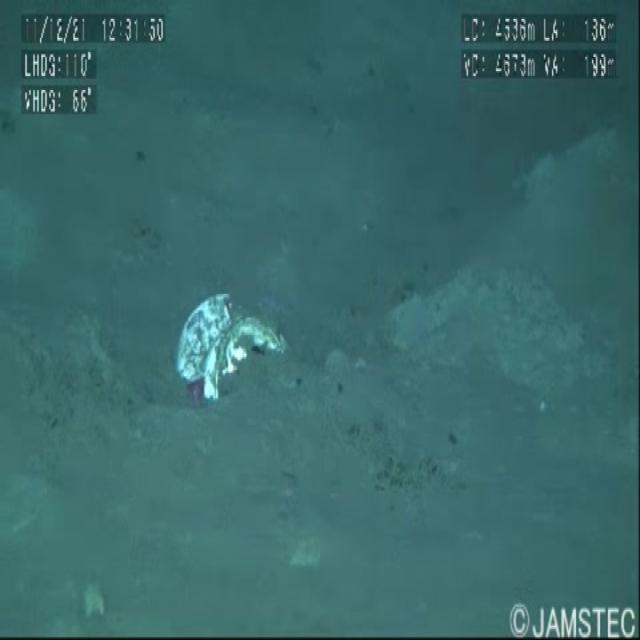Litter: (149, 253, 304, 458)
